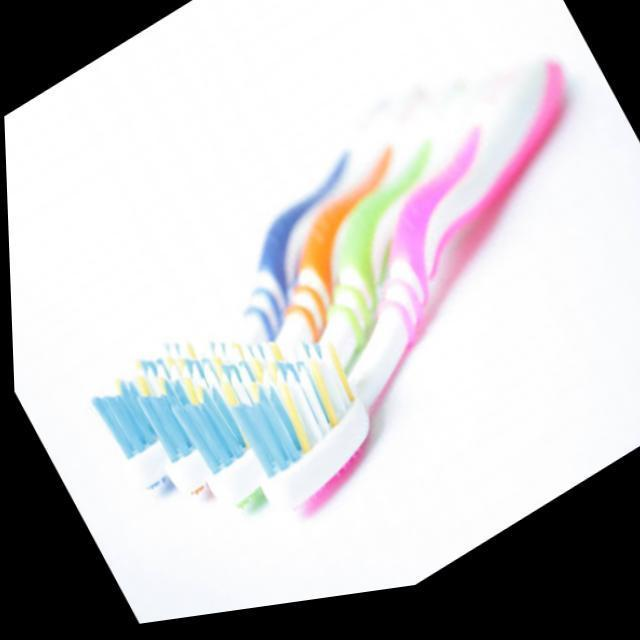toothbrush: (225, 75, 558, 523), (171, 87, 465, 510), (138, 101, 427, 500), (86, 129, 368, 490)
